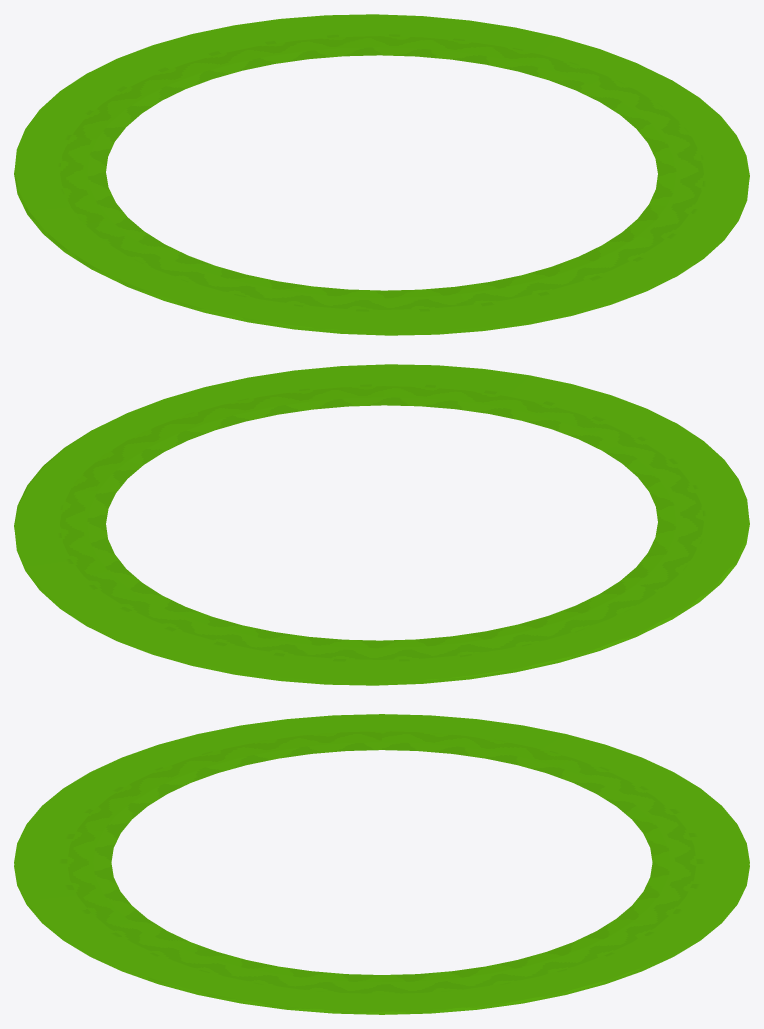
Rendered from Selection.fbx.
3 views of the same model, one above another, from view 1: azimuth 30°, elevation 25°; view 2: azimuth 150°, elevation 25°; view 3: azimuth 270°, elevation 25° (orthographic). The views are drawn at different scales.
Visible parts, largest first — view 1: Torus; view 2: Torus; view 3: Torus.
Part boxes in pixels (x1=…): Torus: x1=14, y1=14, x2=749, y2=335; Torus: x1=14, y1=364, x2=749, y2=685; Torus: x1=14, y1=714, x2=749, y2=1014.
Size of the model in its own units: 498 by 3.2 by 517.
